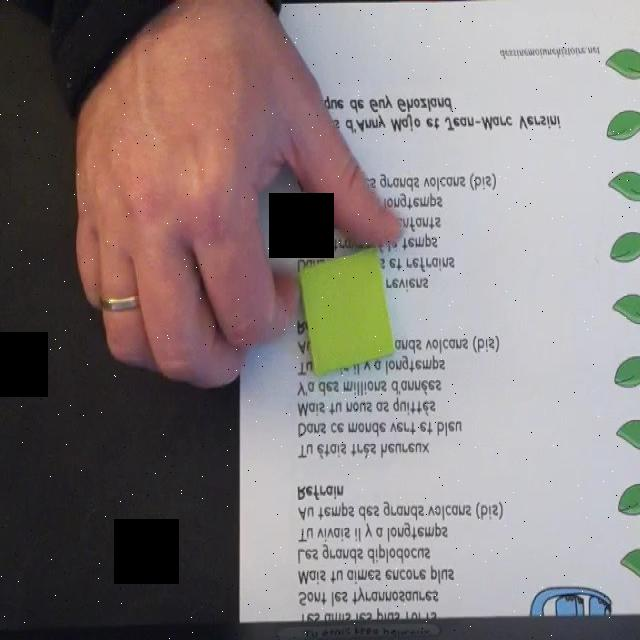square: (299, 246, 394, 377)
